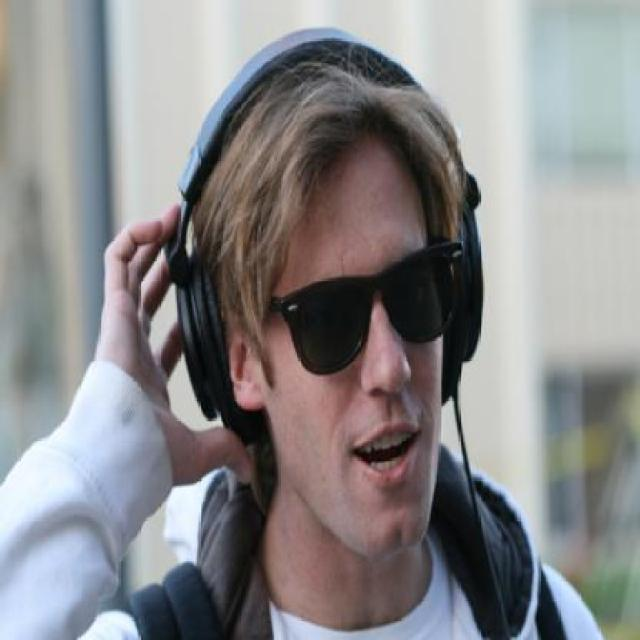earphone: (175, 14, 508, 418)
